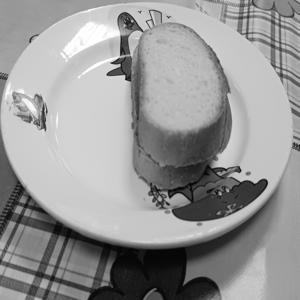bread: (109, 25, 258, 199)
